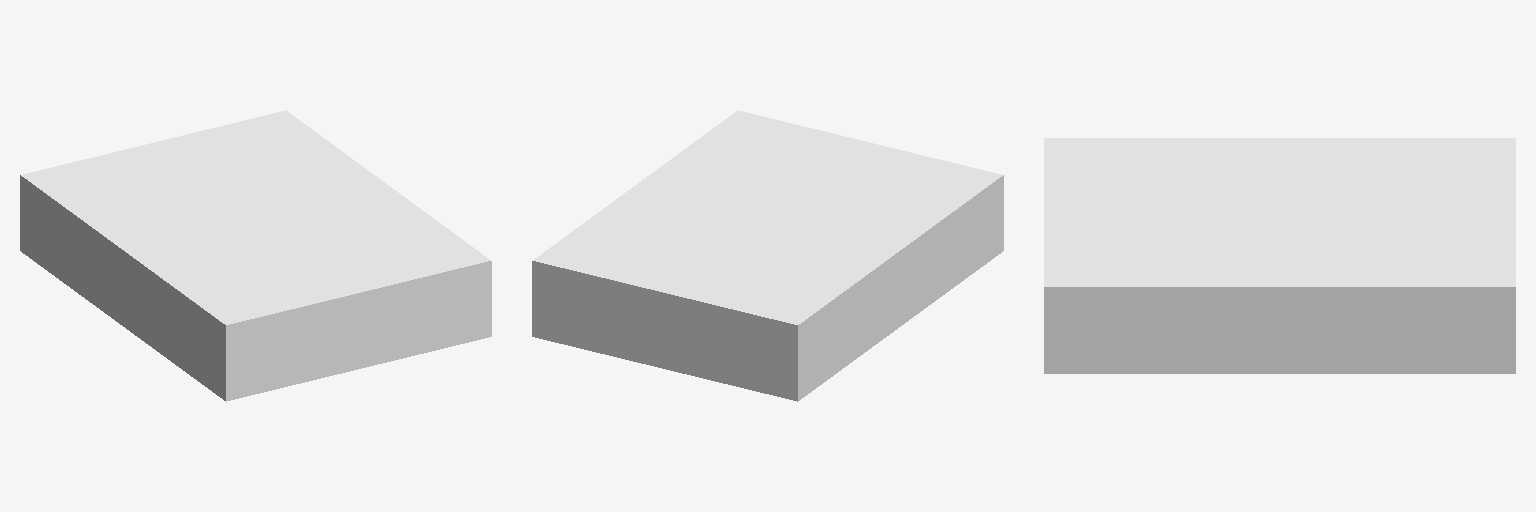
robot.urdf — box:
<?xml version="1.0" ?>
<robot name="box">
  <link name="baseLink">
    <contact>
      <lateral_friction value="1.0"/>
      <rolling_friction value="0.0"/>
      <contact_cfm value="0.0"/>
      <contact_erp value="1.0"/>
    </contact>
    <inertial>
      <origin rpy="0 0 0" xyz="0 0 0"/>
       <mass value="0"/>
       <inertia ixx="1" ixy="0" ixz="0" iyy="1" iyz="0" izz="1"/>
    </inertial>
    <visual>
      <origin rpy="0 0 0" xyz="0 0 0"/>
      <geometry>
		    <mesh filename="pallet.obj" scale="1 1 1"/>
      </geometry>
      <material name="white">
        <color rgba="1 1 1 1"/>
      </material>
    </visual>
    <collision>
      <origin rpy="0 0 0" xyz="0 0 0"/>
      <geometry>
	      <mesh filename="pallet.obj" scale="1 1 1"/>
      </geometry>
    </collision>
  </link>
</robot>

--- What the picture shows (computed from the rendered views, not written in the file) ---
The picture shows the robot from 3 angles, left to right: view 1: azimuth 30°, elevation 25°; view 2: azimuth 150°, elevation 25°; view 3: azimuth 270°, elevation 25°; orthographic projection.
Model box with 1 links and 0 joints (none), rooted at baseLink, posed all joints at 0.
Visible links, largest first — view 1: baseLink; view 2: baseLink; view 3: baseLink.
Link boxes in pixels (x1,y1,x2,y2): baseLink: (20,110,491,401); baseLink: (532,110,1003,401); baseLink: (1044,138,1515,373).
Size in the robot's own frame: 0.7433 by 0.9959 by 0.2039 metres.
1 mesh visuals loaded from 1 distinct referenced files (1 OBJ).